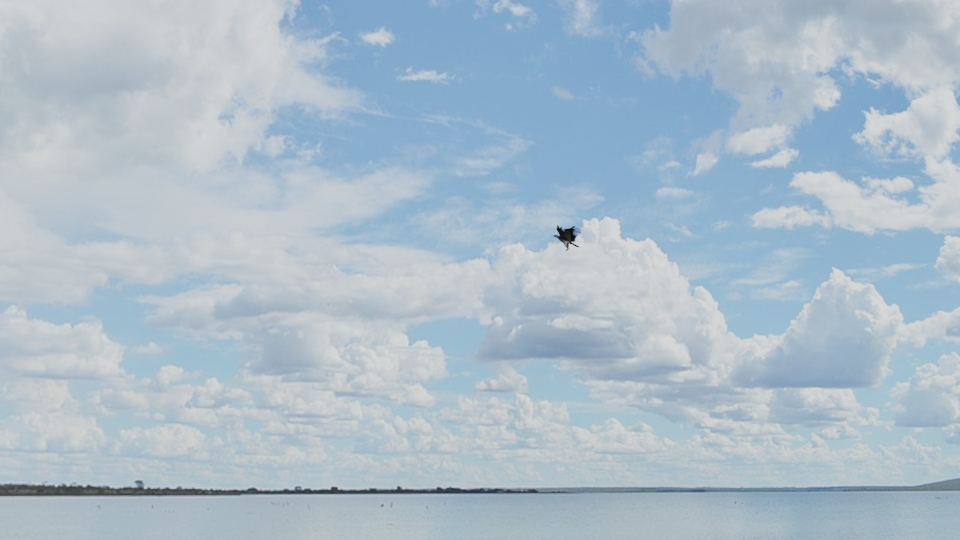bird: (552, 219, 580, 248)
